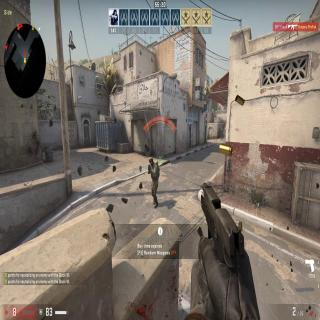CT-Body: (149, 158, 158, 200)
CT-Head: (149, 156, 153, 164)
